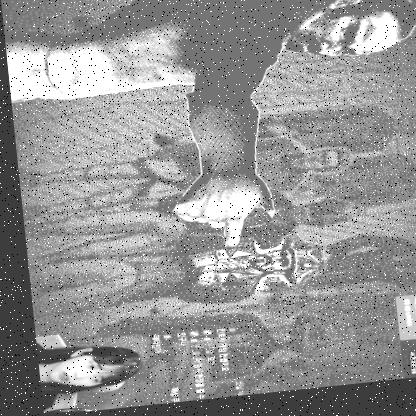streamer: (27, 327, 139, 415)
